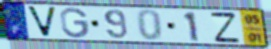0: (135, 8, 166, 43)
1: (183, 10, 200, 42)
9: (102, 8, 129, 40)
G: (59, 6, 90, 39)
V: (25, 5, 59, 39)
Z: (208, 11, 242, 44)
